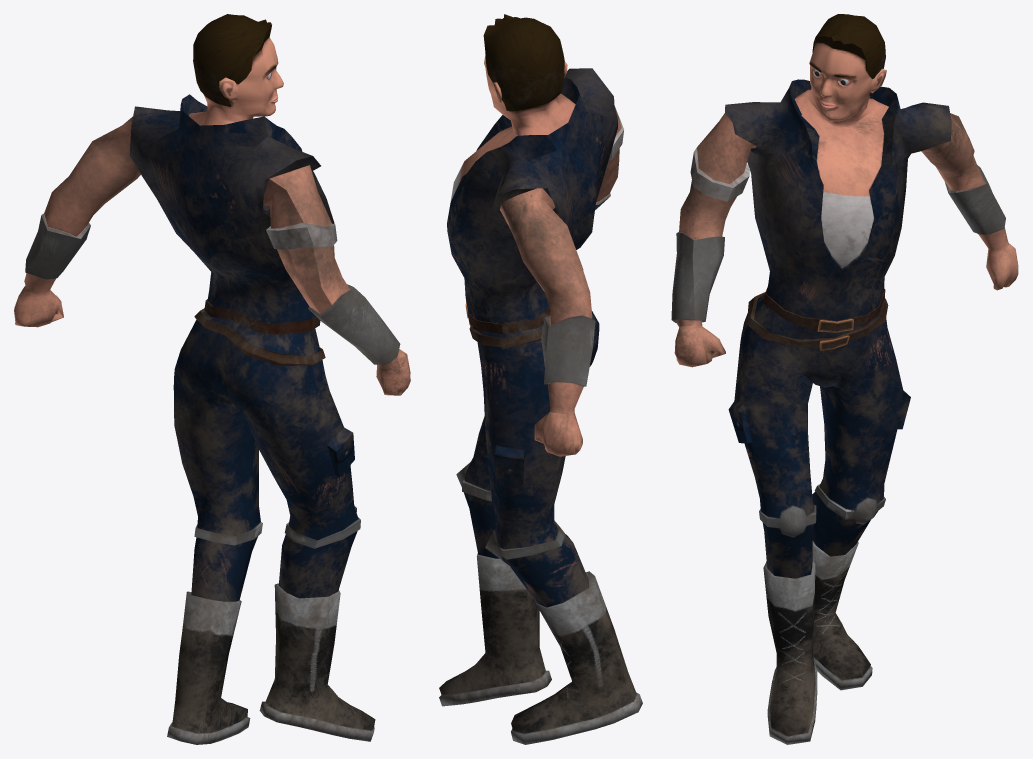
The model's file is Anim_ataque_f1_jugador.0029.obj.
3 renders of one model, left to right at view 1: azimuth 30°, elevation 25°; view 2: azimuth 150°, elevation 25°; view 3: azimuth 270°, elevation 25°, orthographic. The views are drawn at different scales.
Parts seen in each view (by area): view 1: polySurface1; view 2: polySurface1; view 3: polySurface1.
Boxes of the visible parts, bbox=[...] form: polySurface1: bbox=[14, 14, 410, 744]; polySurface1: bbox=[439, 14, 642, 744]; polySurface1: bbox=[671, 14, 1018, 744].
Size of the model in its own units: 3.5 by 9.77 by 4.53.
